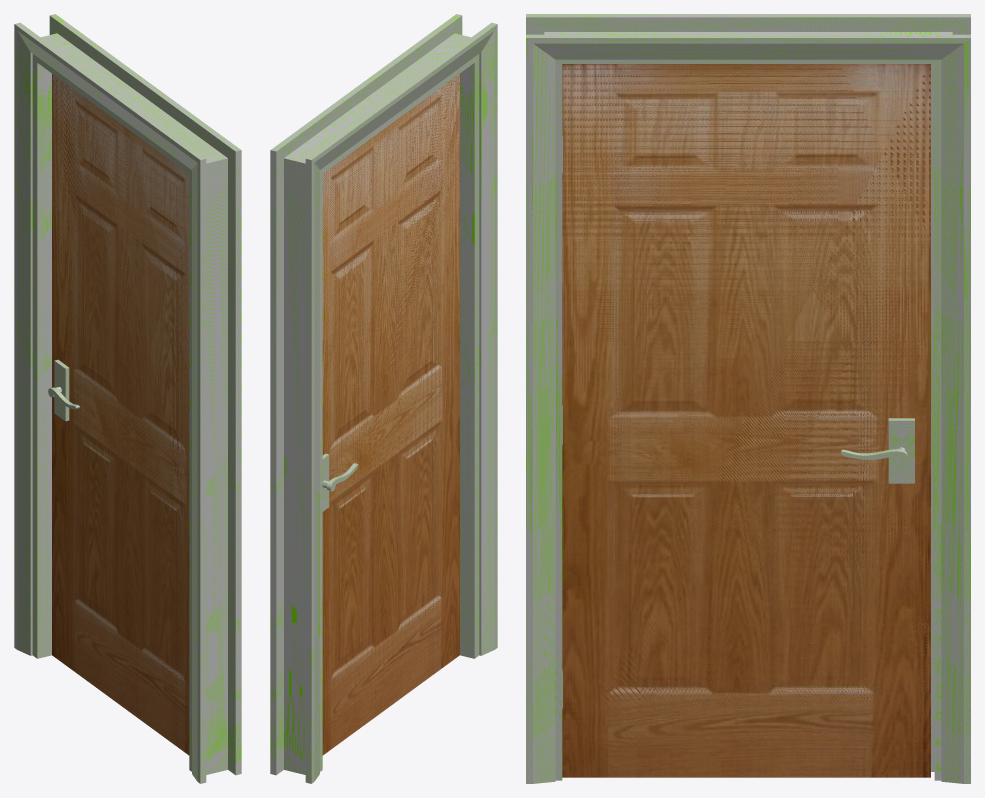
The model's file is Door 36 Inch 15JAN24.dae.
3 renders of one model, left to right at view 1: azimuth 30°, elevation 25°; view 2: azimuth 150°, elevation 25°; view 3: azimuth 270°, elevation 25°, orthographic. The views are drawn at different scales.
Parts seen in each view (by area): view 1: group_4, group_0, group_2; view 2: group_4, group_0; view 3: group_4, group_0, group_3.
Part boxes in pixels (box(x1,y1,x2,y2)): group_4: box(52, 73, 189, 755); group_0: box(14, 14, 241, 783); group_2: box(54, 359, 69, 421); group_4: box(322, 73, 459, 755); group_0: box(270, 14, 497, 783); group_4: box(562, 64, 930, 777); group_0: box(526, 14, 970, 783); group_3: box(888, 418, 914, 483).
Bounding box in the file's own units: 5.81 × 43.2 × 79.92.
